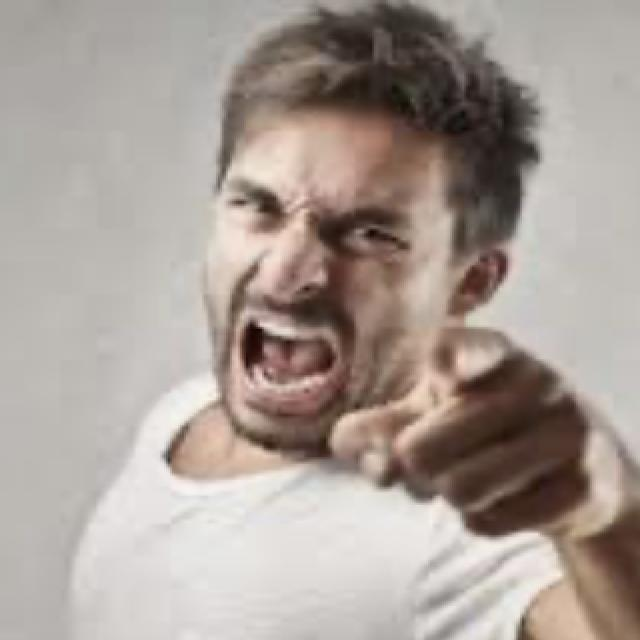angry: (185, 49, 479, 464)
